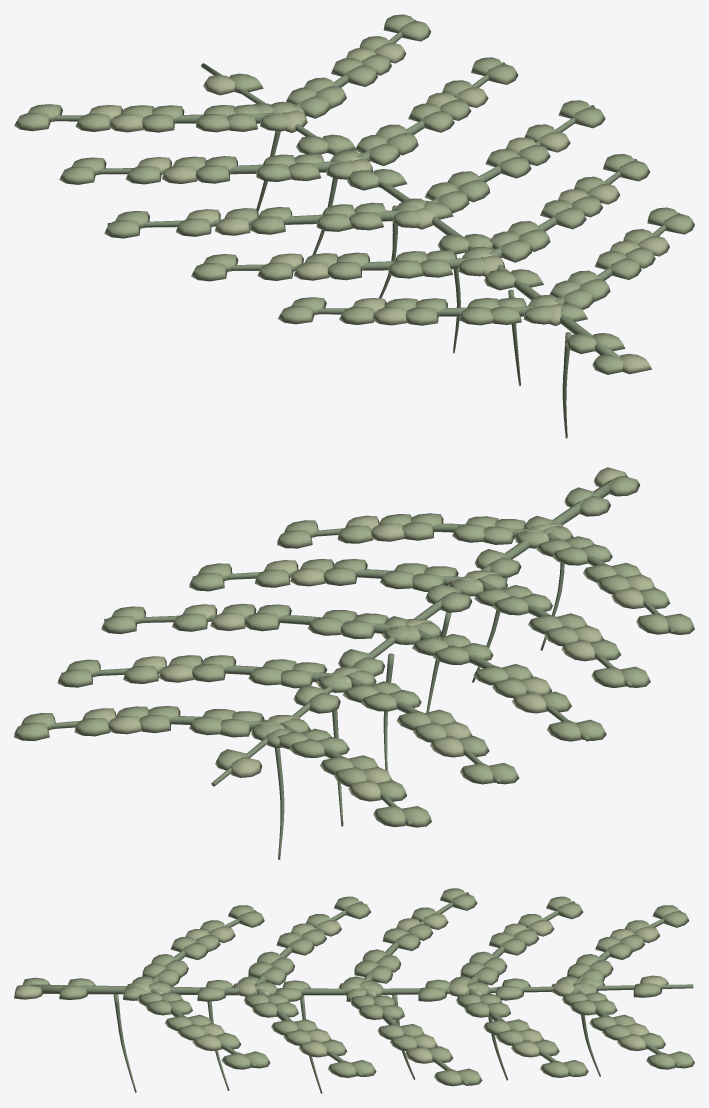
File: azolla.glb
3 views of the same model, one above another, from view 1: azimuth 30°, elevation 25°; view 2: azimuth 150°, elevation 25°; view 3: azimuth 270°, elevation 25° (orthographic). The views are drawn at different scales.
Parts seen in each view (by area): view 1: overlapping small scale fronds in two alternate ranks, connected creeping freshwater branch units, restrained submerged root hints; view 2: overlapping small scale fronds in two alternate ranks, connected creeping freshwater branch units, restrained submerged root hints; view 3: overlapping small scale fronds in two alternate ranks, connected creeping freshwater branch units, restrained submerged root hints.
Boxes of the visible parts, x1,y1,x2,y2 form: overlapping small scale fronds in two alternate ranks: (14,14,694,374); connected creeping freshwater branch units: (53,19,680,360); restrained submerged root hints: (256,131,571,438); overlapping small scale fronds in two alternate ranks: (14,467,694,827); connected creeping freshwater branch units: (50,477,674,826); restrained submerged root hints: (274,562,564,859); overlapping small scale fronds in two alternate ranks: (14,888,694,1086); connected creeping freshwater branch units: (29,892,693,1085); restrained submerged root hints: (113,994,600,1093).
Size of the model in its own units: 0.0694 by 0.0179 by 0.1027.
